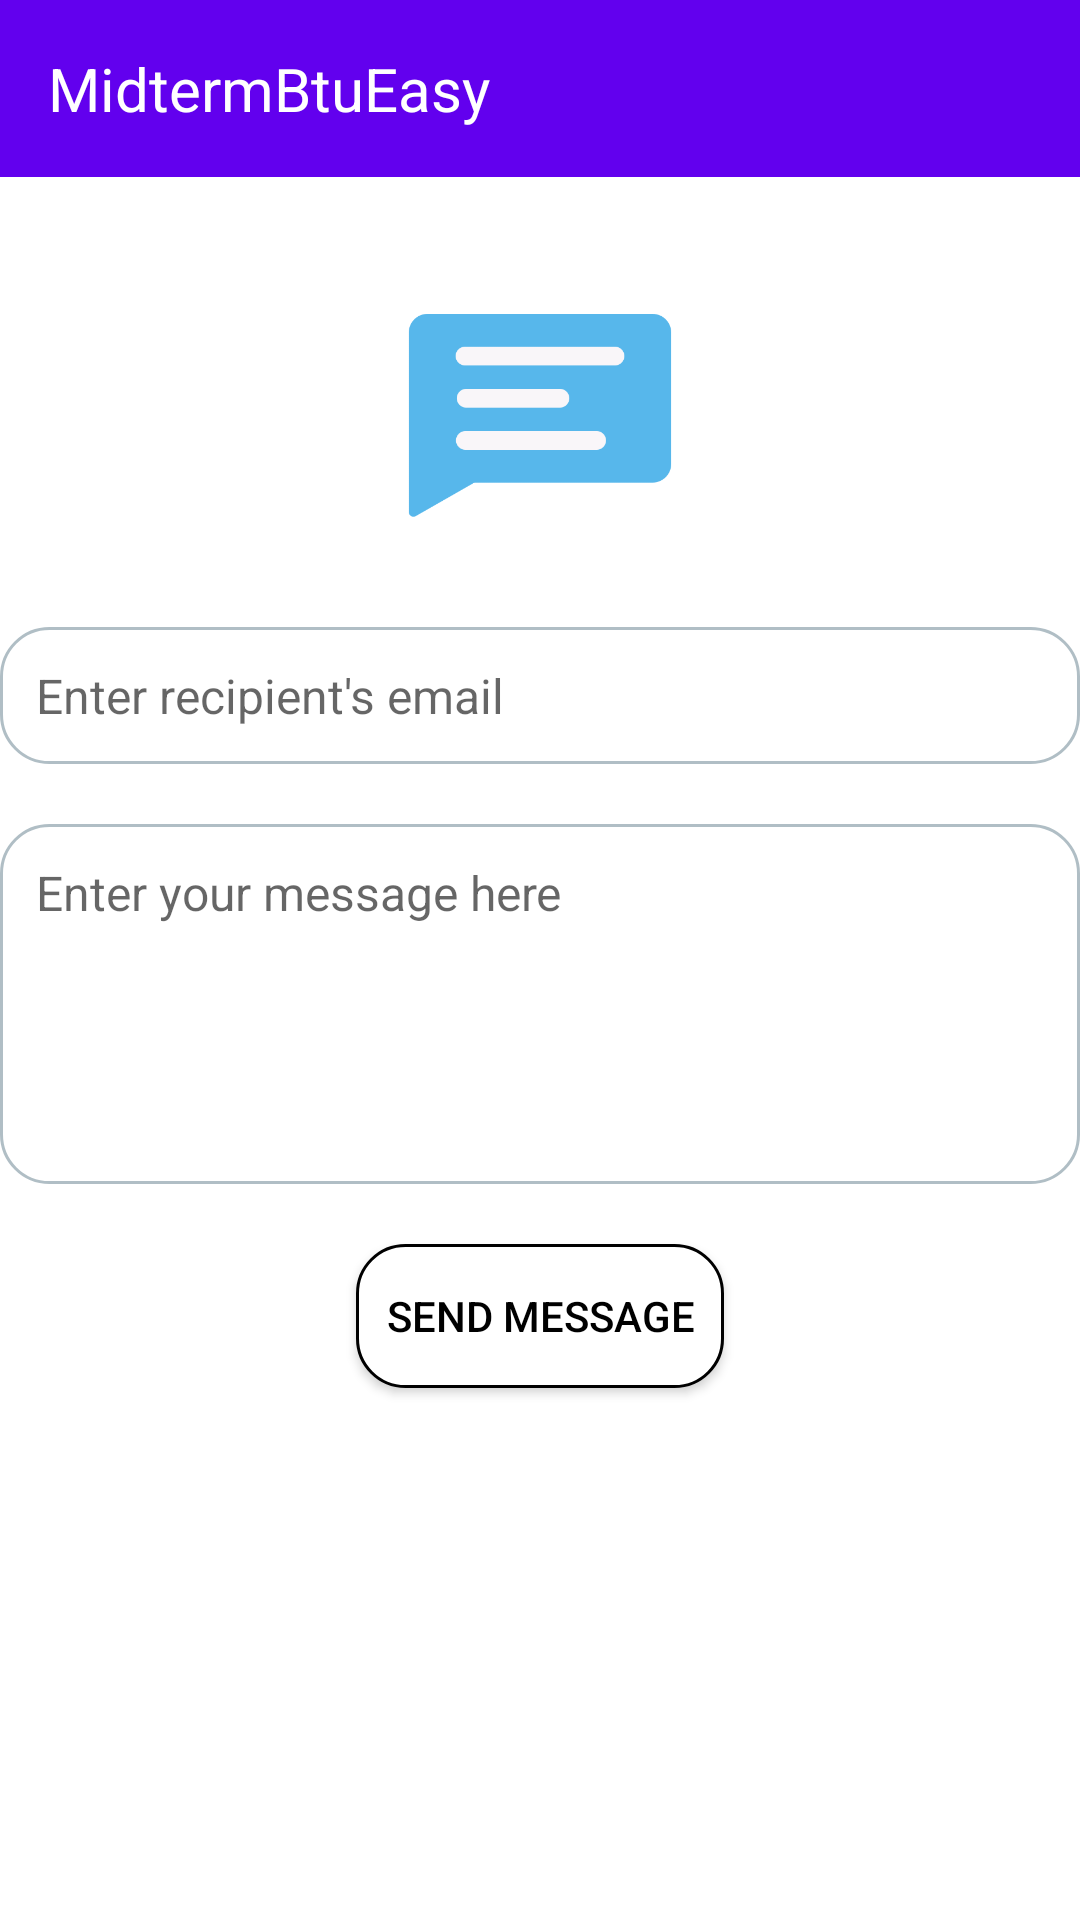

Where to tap for icons on this 1080 x 1920 app screen, as (x,y):
message: (540,415)
